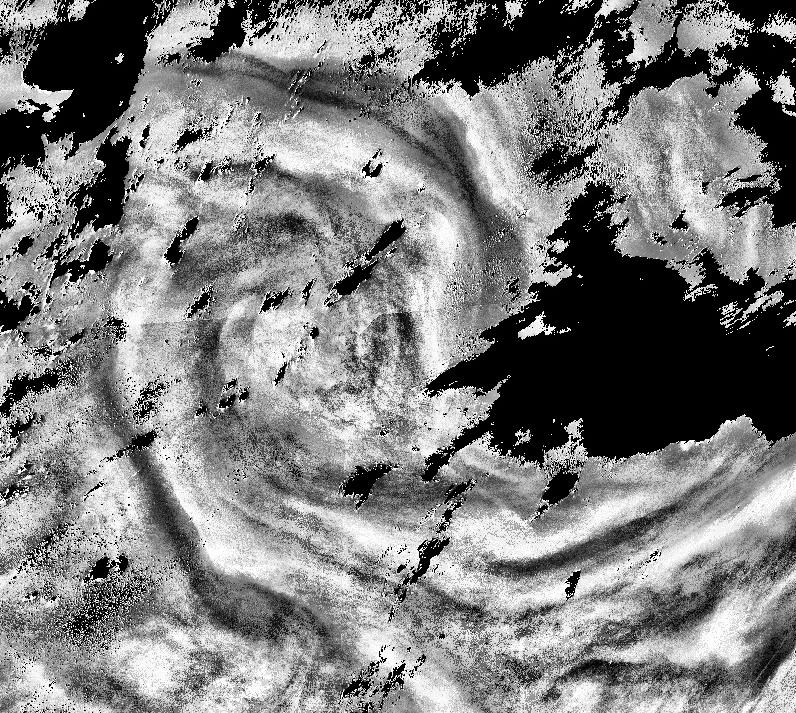AE: (81, 53, 525, 566)
